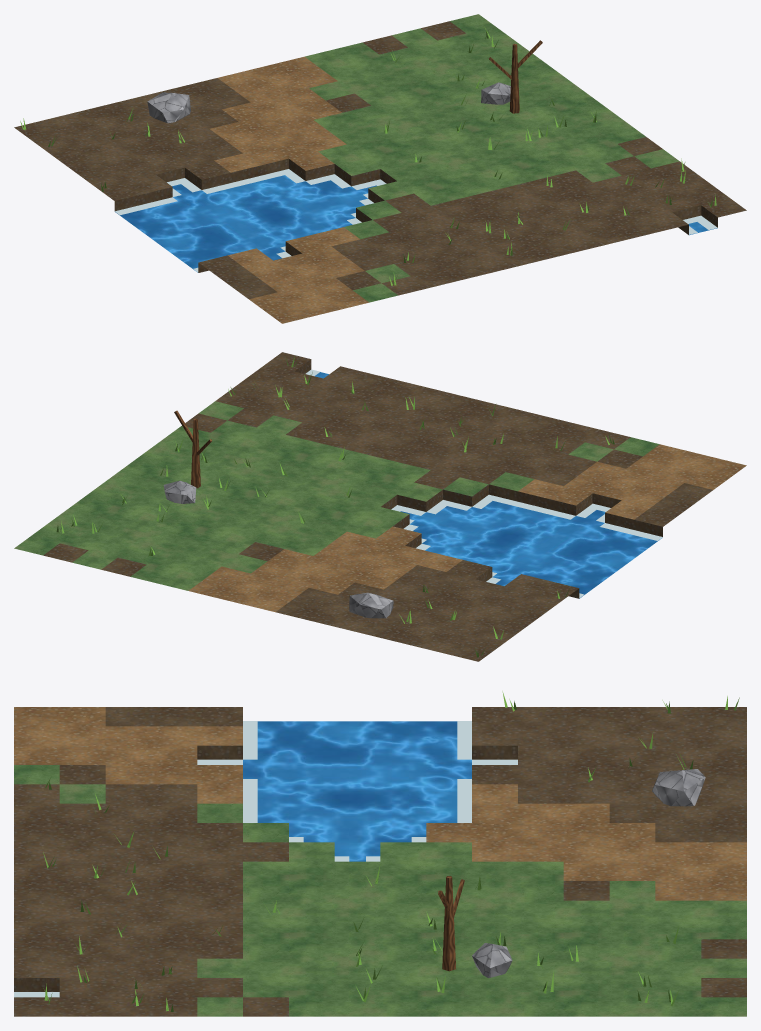
Rendered from chunk_2_17.glb.
3 views of the same model, one above another, from view 1: azimuth 30°, elevation 25°; view 2: azimuth 150°, elevation 25°; view 3: azimuth 270°, elevation 25° (orthographic). The views are drawn at different scales.
Visible parts, largest first — view 1: chunk_2_17; view 2: chunk_2_17; view 3: chunk_2_17.
Boxes of the visible parts, x1,y1,x2,y2 form: chunk_2_17: (14,14,746,323); chunk_2_17: (14,352,746,661); chunk_2_17: (14,691,746,1016).
Size of the model in its own units: 16.09 by 2.69 by 16.
8 materials, 6 textured.
